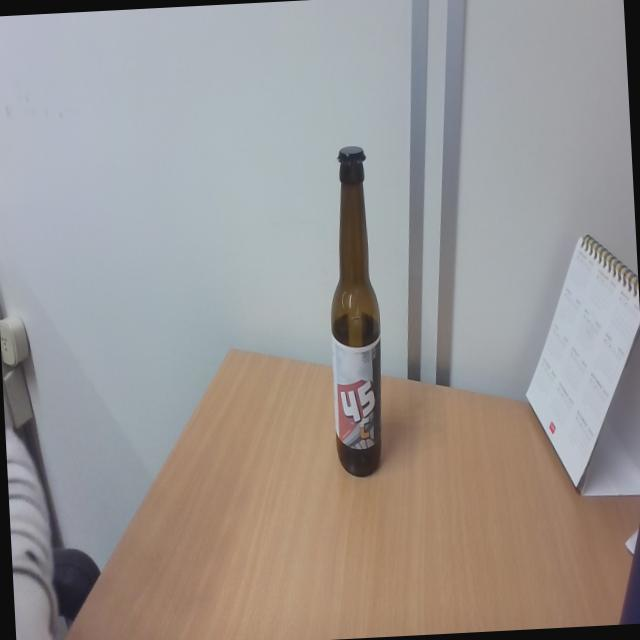Bottle: (322, 143, 390, 481)
Cap: (332, 140, 368, 170)
Label: (334, 332, 386, 453)
